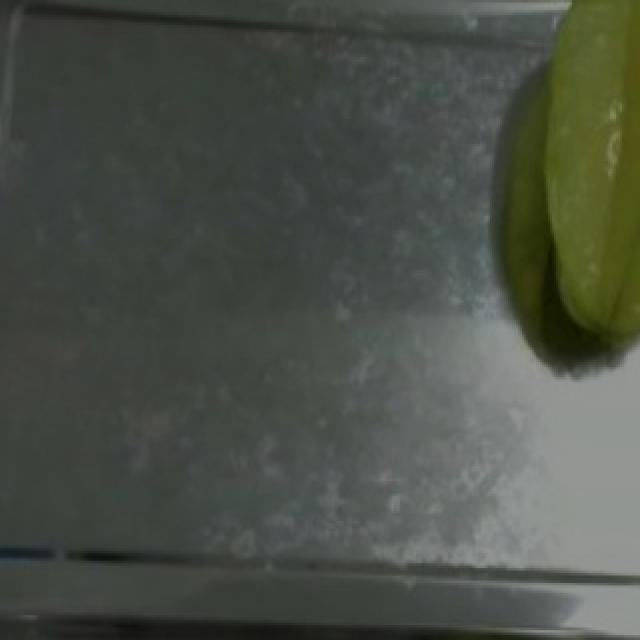fruit: (518, 2, 640, 360)
